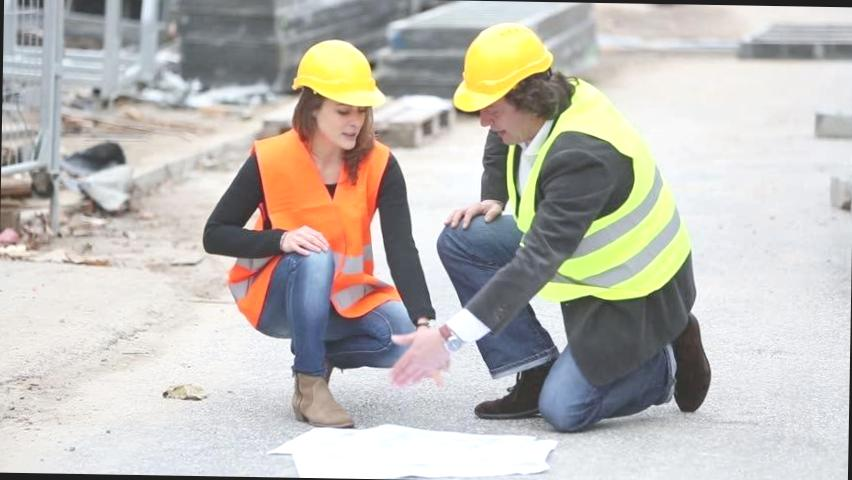helmet: (455, 24, 554, 120), (288, 36, 386, 118)
person: (433, 18, 714, 438), (236, 26, 416, 427)
